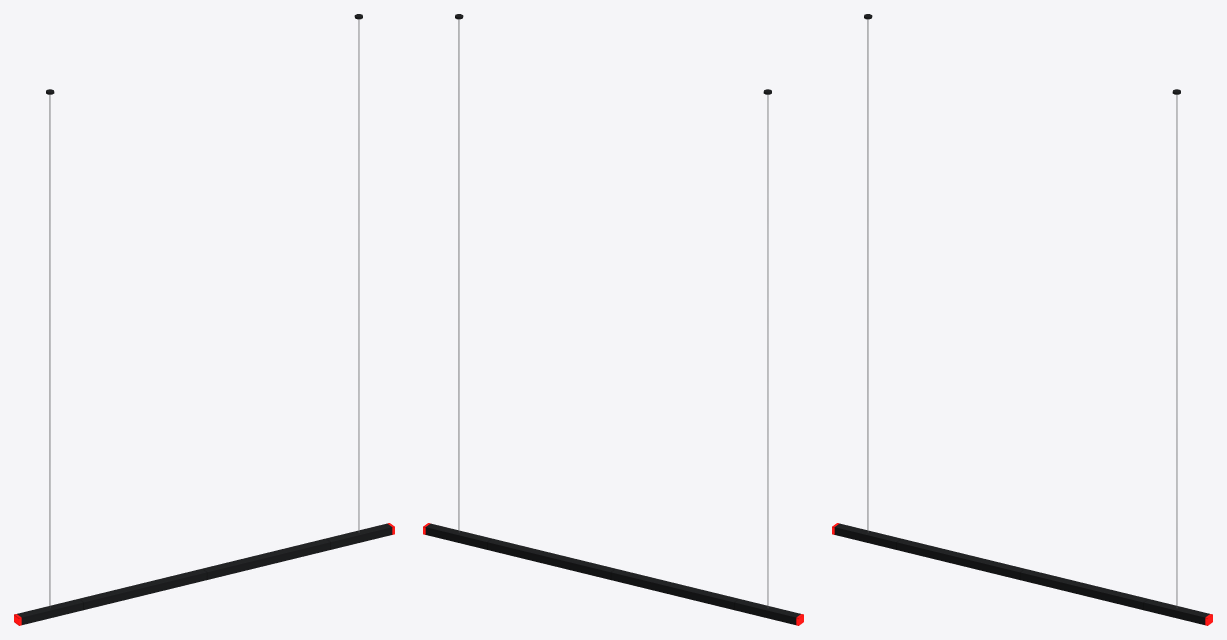
Rendered from SM_LFD_LightRig_LinearPendant.fbx.
The picture shows the model from 3 angles, left to right: view 1: azimuth 30°, elevation 25°; view 2: azimuth 150°, elevation 25°; view 3: azimuth 330°, elevation 25°; orthographic projection.
Visible parts, largest first — view 1: SM_LFD_LightRig_LinearPendant_LOD0; view 2: SM_LFD_LightRig_LinearPendant_LOD0; view 3: SM_LFD_LightRig_LinearPendant_LOD0.
Boxes of the visible parts, bbox=[...] form: SM_LFD_LightRig_LinearPendant_LOD0: bbox=[14, 14, 394, 625]; SM_LFD_LightRig_LinearPendant_LOD0: bbox=[423, 14, 803, 625]; SM_LFD_LightRig_LinearPendant_LOD0: bbox=[832, 14, 1212, 625].
Size of what is drawn, in the model's own units: 6.08 by 8.12 by 0.144.
